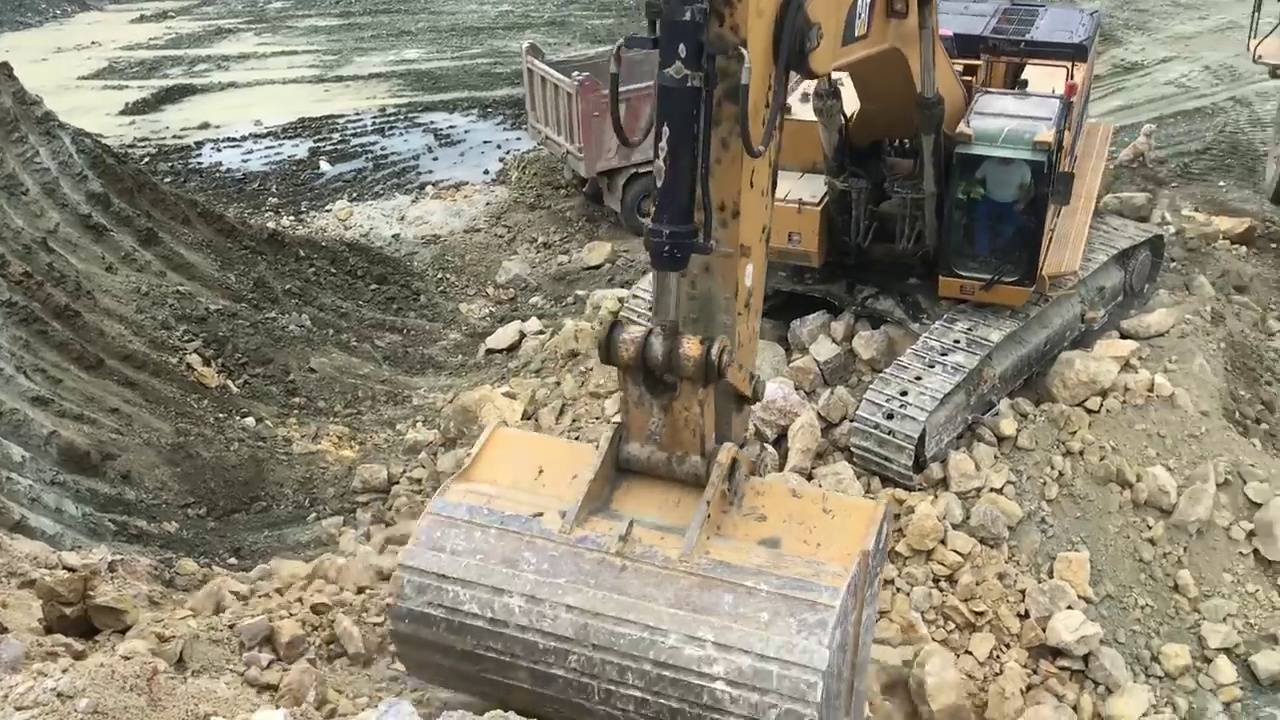excavator: (388, 3, 1169, 720)
person: (975, 143, 1033, 267)
truck: (518, 28, 959, 233)
